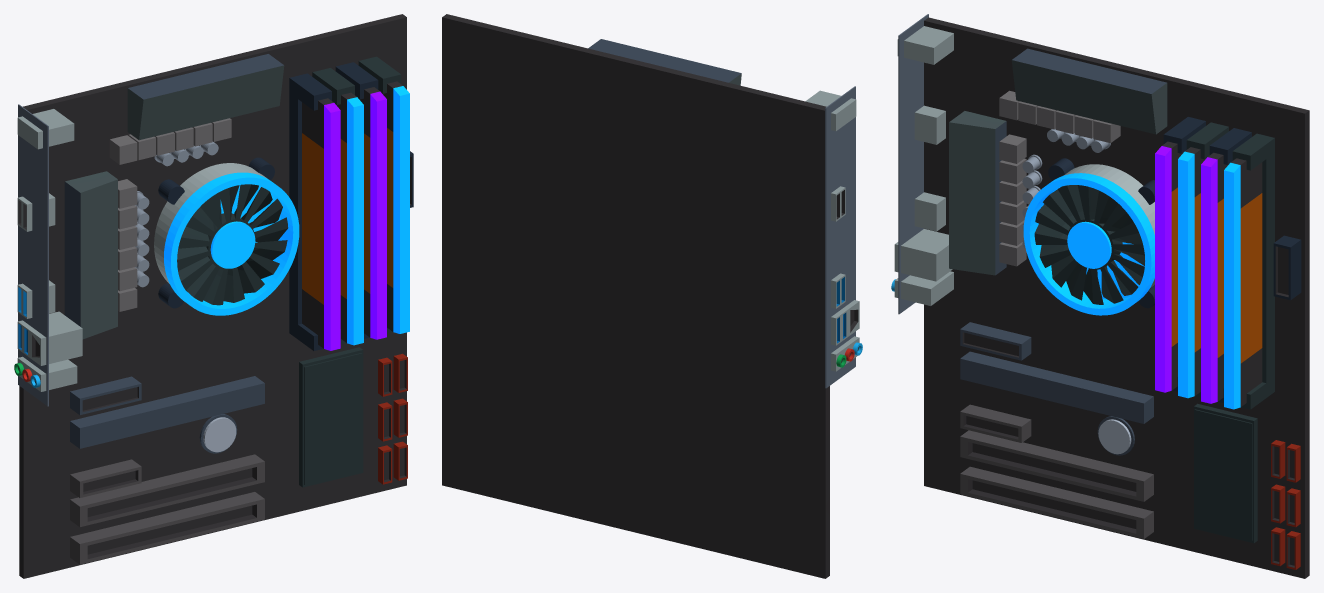
3 renders of one model, left to right at view 1: azimuth 30°, elevation 25°; view 2: azimuth 150°, elevation 25°; view 3: azimuth 330°, elevation 25°, orthographic.
Visible parts, largest first — view 1: Cube.078_TexturaComp_0.001; view 2: Cube.078_TexturaComp_0.001; view 3: Cube.078_TexturaComp_0.001.
Part boxes in pixels (x1,y1,x2,y2): Cube.078_TexturaComp_0.001: [14, 14, 413, 578]; Cube.078_TexturaComp_0.001: [442, 14, 862, 578]; Cube.078_TexturaComp_0.001: [891, 14, 1309, 578].
Bounding box in the file's own units: 1.3 × 1.48 × 0.2404.
Materials: 3 (1 with a texture image).
